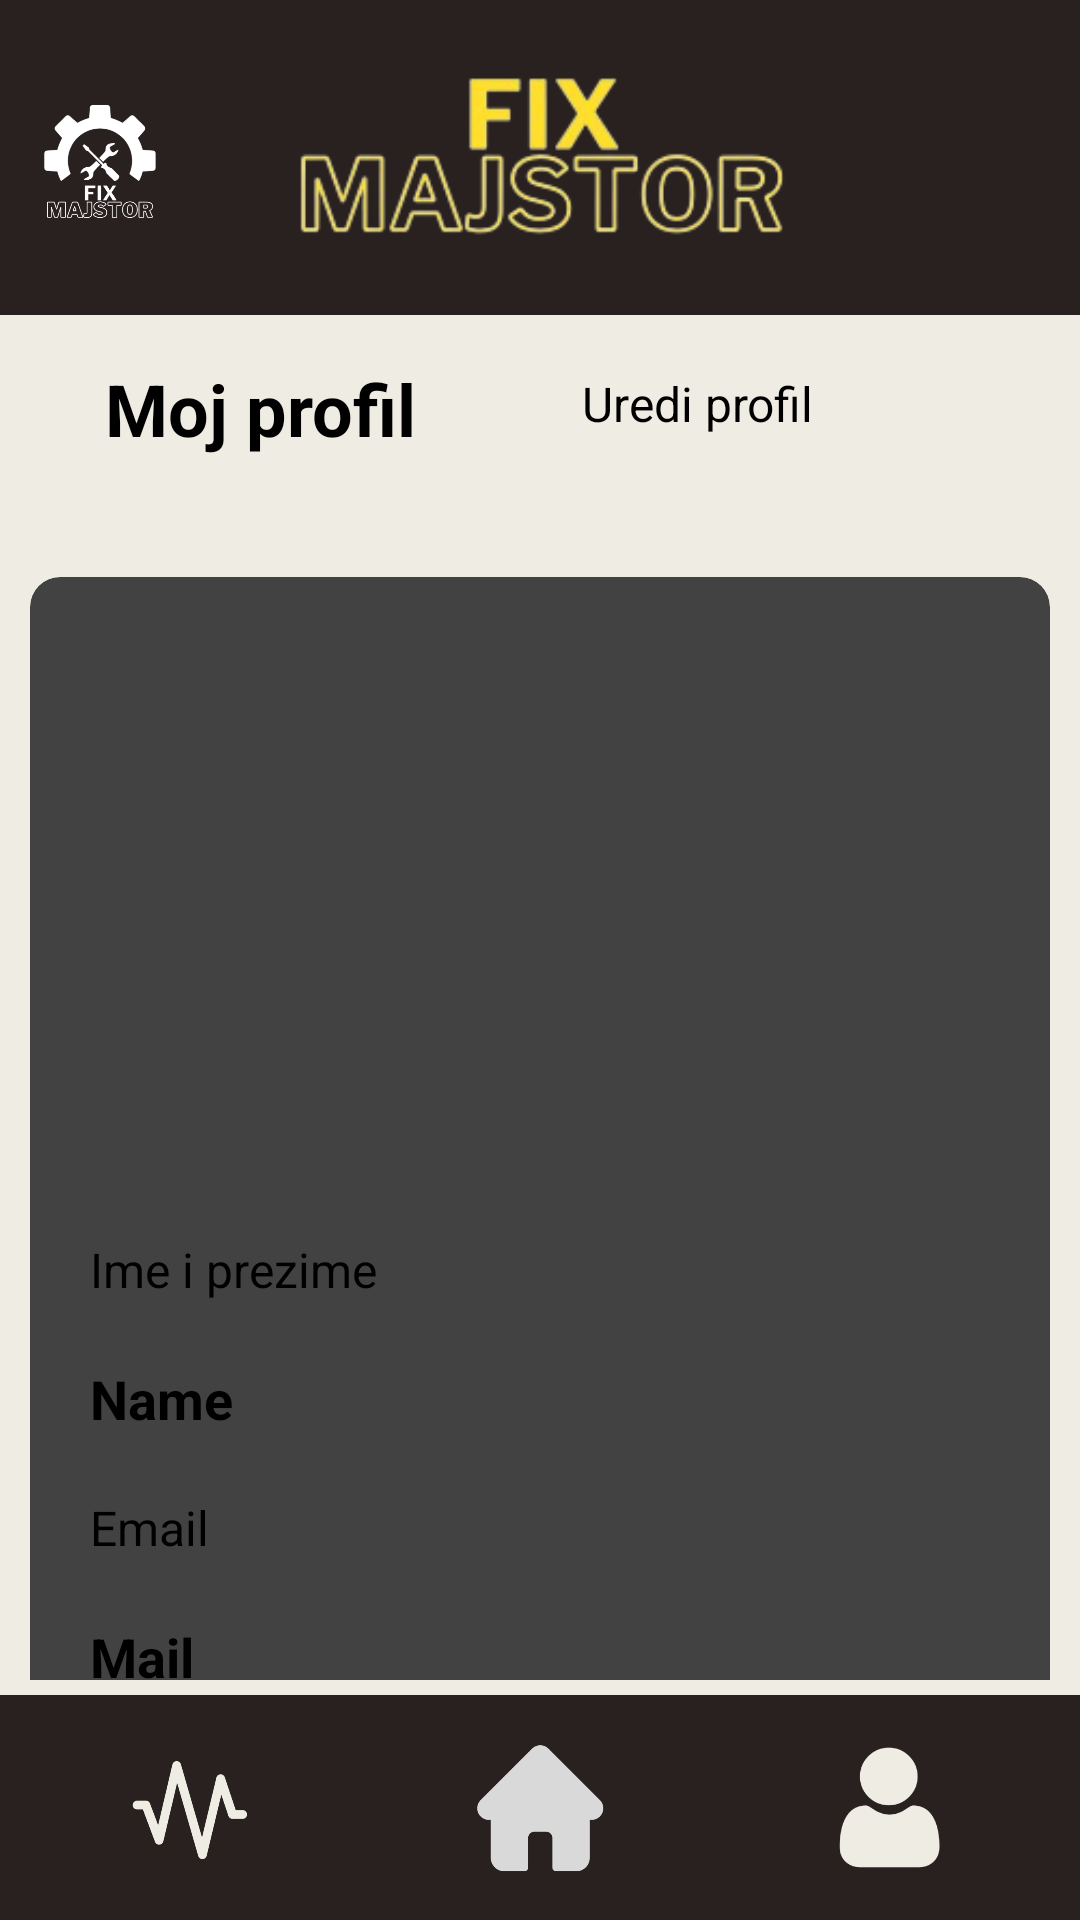

Where to tap for icons on this 1080 × 1920 app screen, as point (x, y):
Activity: point (189, 1810)
Home: point (540, 1808)
profile: point (889, 1807)
